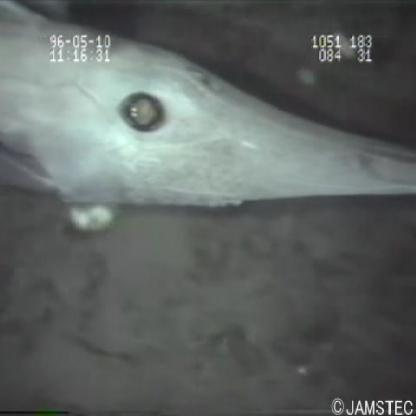Bio: (1, 5, 415, 210)
